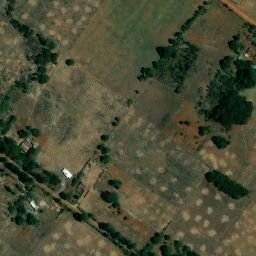tree: (37, 73, 50, 84), (99, 154, 111, 164), (31, 128, 42, 137), (113, 179, 122, 189), (101, 147, 111, 154), (101, 135, 109, 142), (67, 59, 75, 66), (96, 143, 104, 149), (112, 121, 119, 127), (164, 234, 171, 240), (114, 117, 121, 122)
